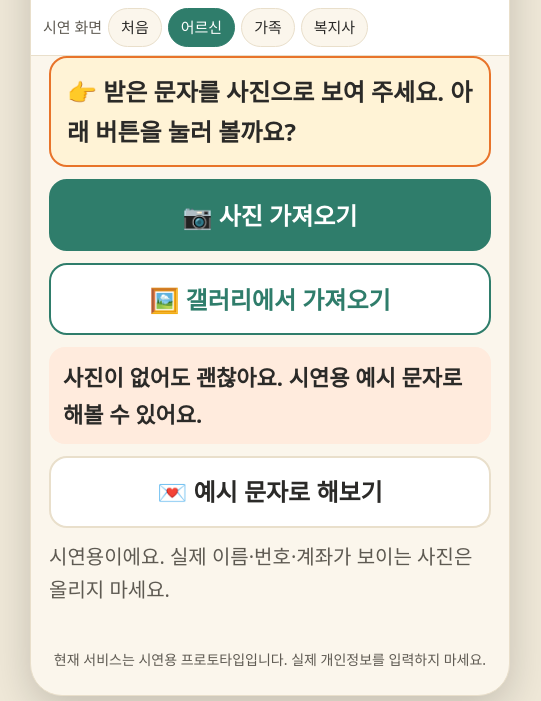
Test: 디지털 동행 주요 흐름 › AI 응답이 정상이면 그 결과를 보여줌
This screenshot has width=541, height=701.
(page scrolled)
Click the button "💌 예시 문자로 해보기" at point(270, 492), box [49, 456, 491, 528]
(page scrolled)
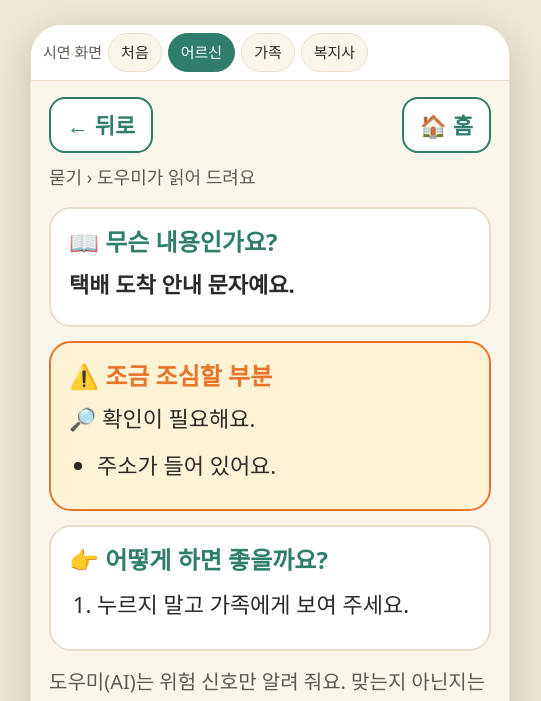
Now the text "택배 도착 안내 문자예요." is shown, box [69, 269, 295, 299]
